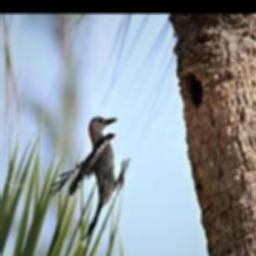Woodpecker: (48, 117, 130, 240)
